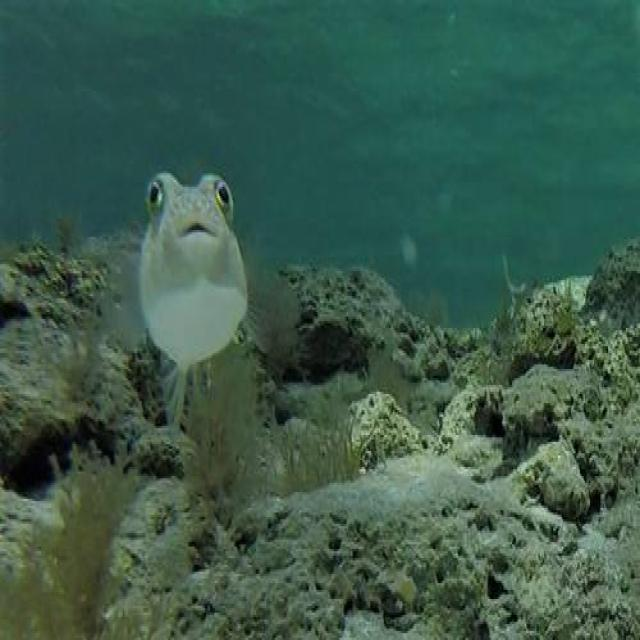Balik: (140, 174, 247, 423)
